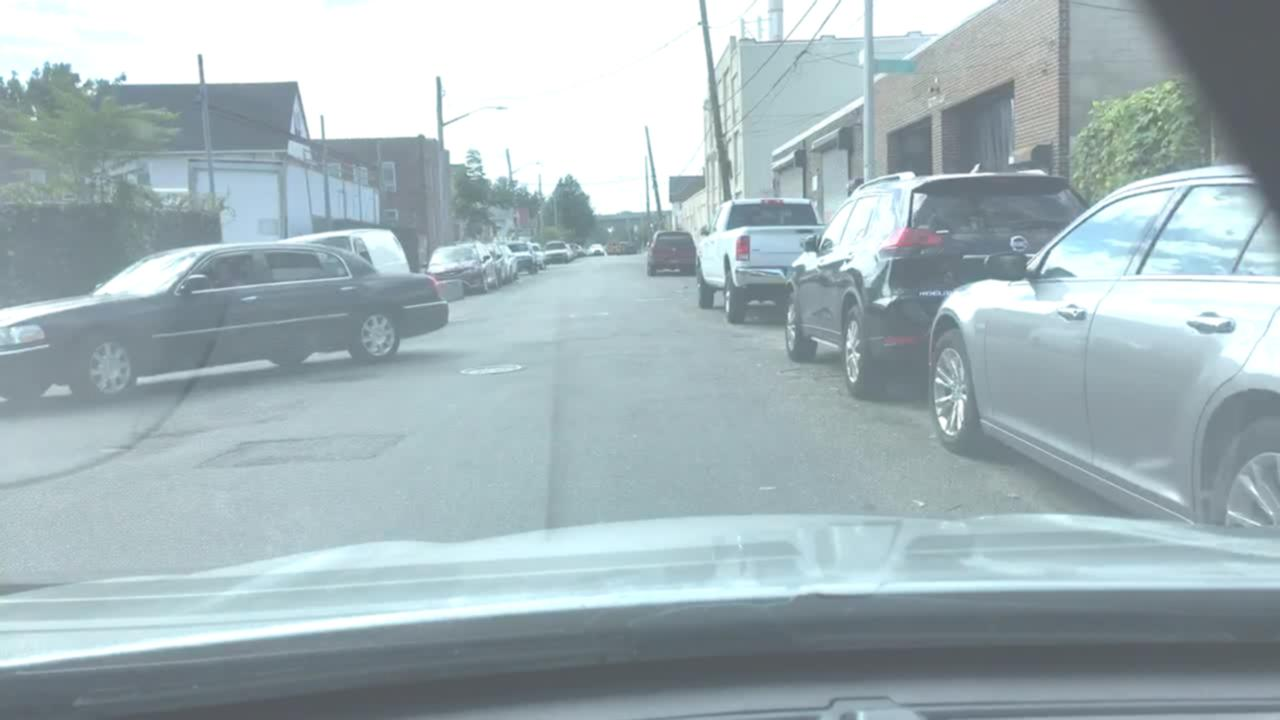Nissan: (1004, 229, 1040, 257)
